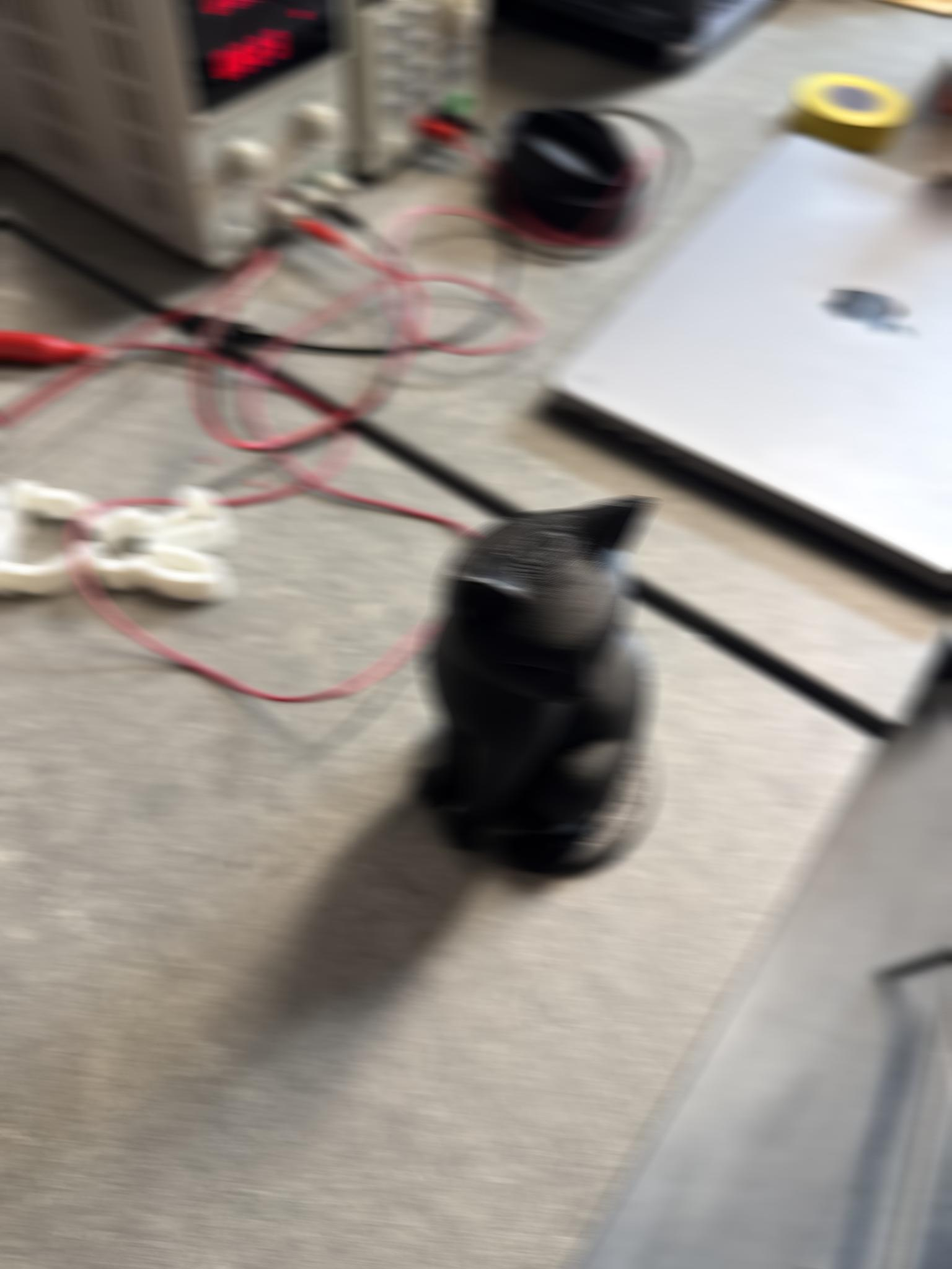cat: (405, 485, 674, 887)
